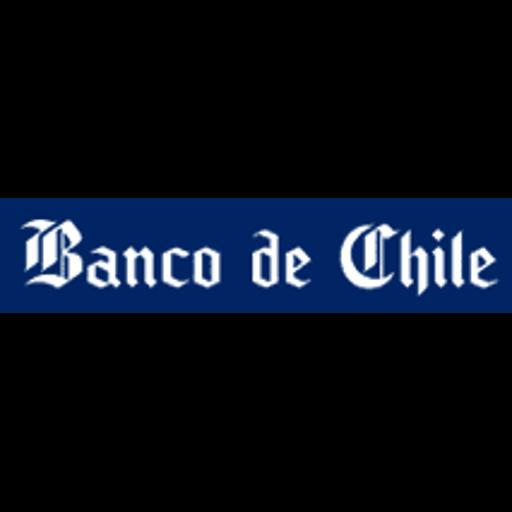Banco de Chile: (0, 198, 512, 313)
